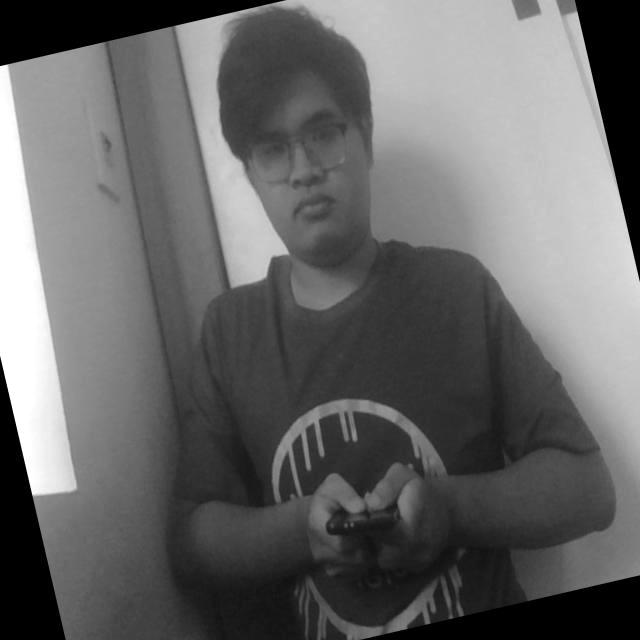phone: (312, 474, 424, 578)
